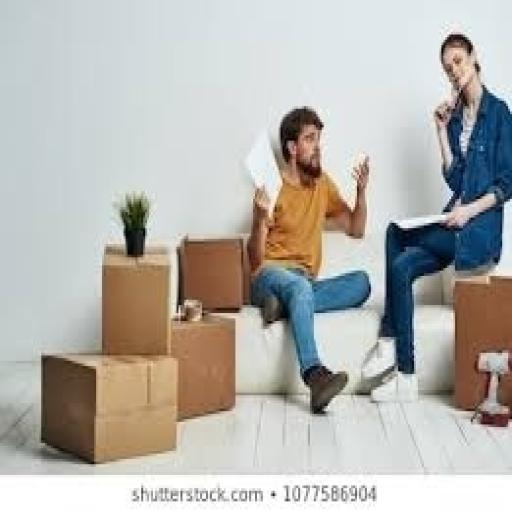sitting: (357, 29, 510, 403), (245, 103, 373, 414)
